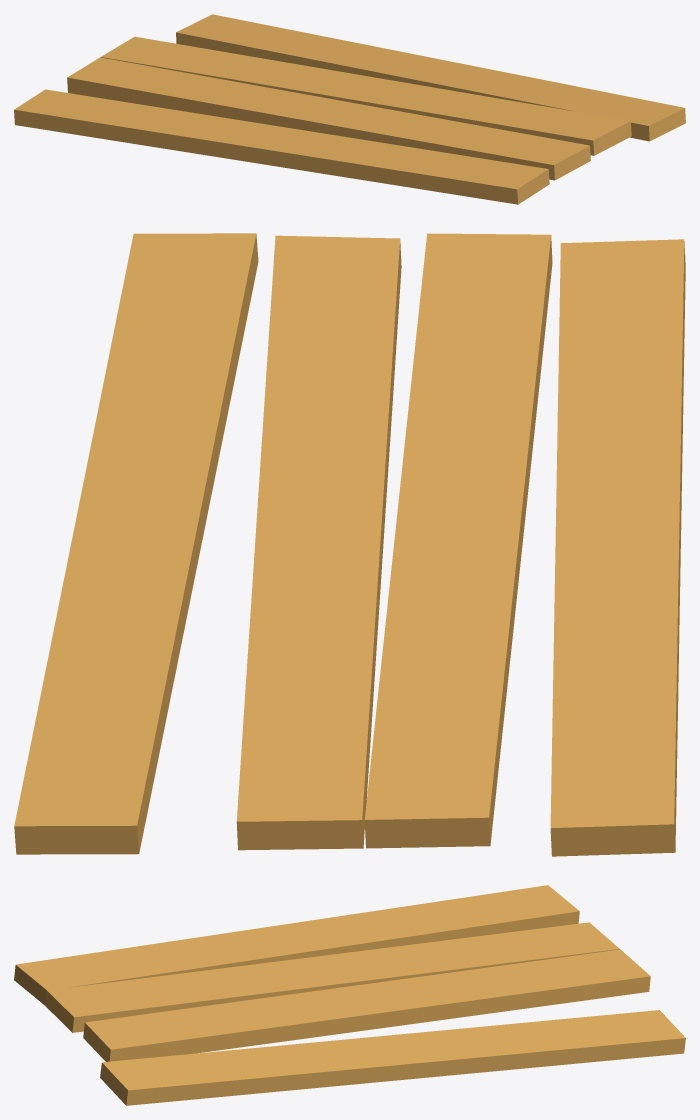
The model's file is planks-1.fbx.
3 views of the same model, one above another, from view 1: azimuth 30°, elevation 25°; view 2: azimuth 150°, elevation 25°; view 3: azimuth 270°, elevation 25° (orthographic). The views are drawn at different scales.
Parts seen in each view (by area): view 1: Wooden_35.003; view 2: Wooden_35.003; view 3: Wooden_35.003.
Part boxes in pixels (left/top/right/bottom): Wooden_35.003: left=14, top=14, right=685, bottom=204; Wooden_35.003: left=14, top=233, right=685, bottom=856; Wooden_35.003: left=14, top=885, right=685, bottom=1105.
Bounding box in the file's own units: 142 × 22.6 × 168.
